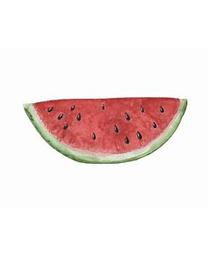watermelon: (19, 96, 190, 164)
